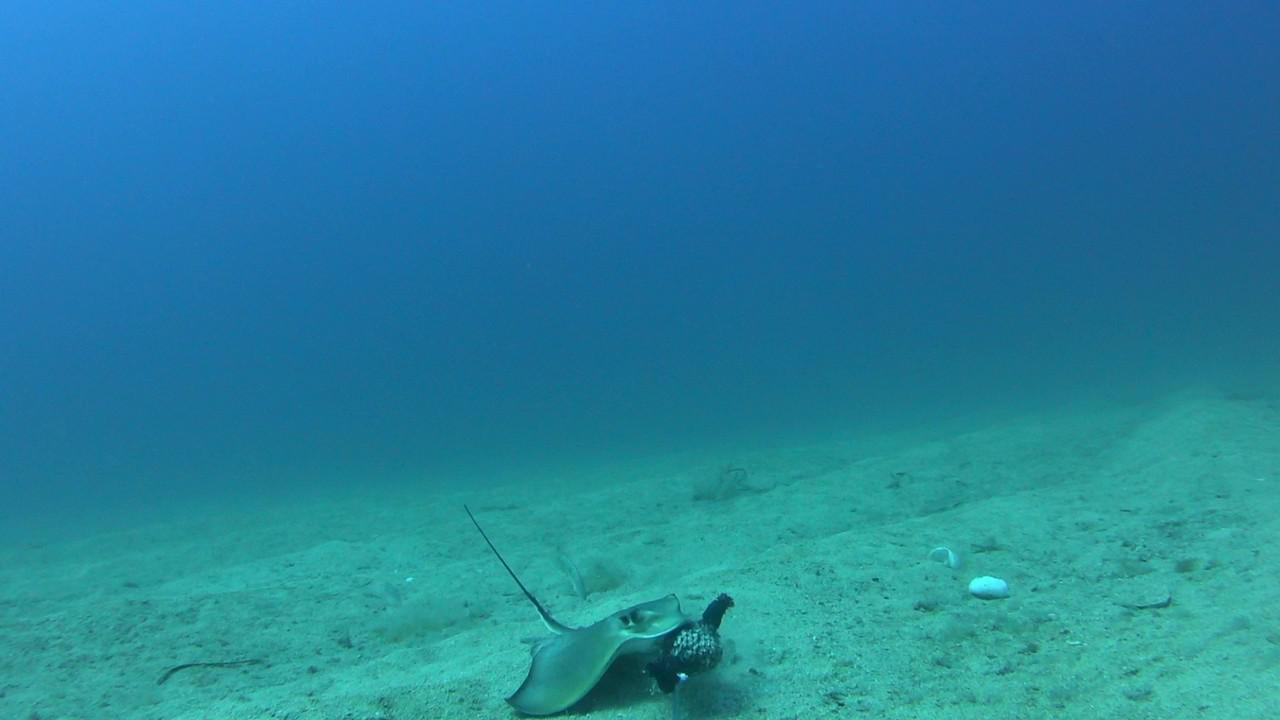myliobatis: (458, 495, 737, 719)
